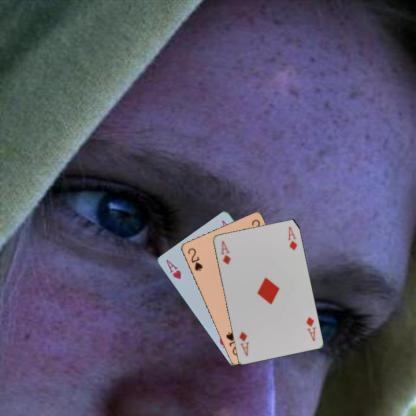2s: (184, 245, 204, 272)
Ad: (303, 314, 318, 342), (218, 238, 232, 266)
Ah: (163, 256, 183, 281)
